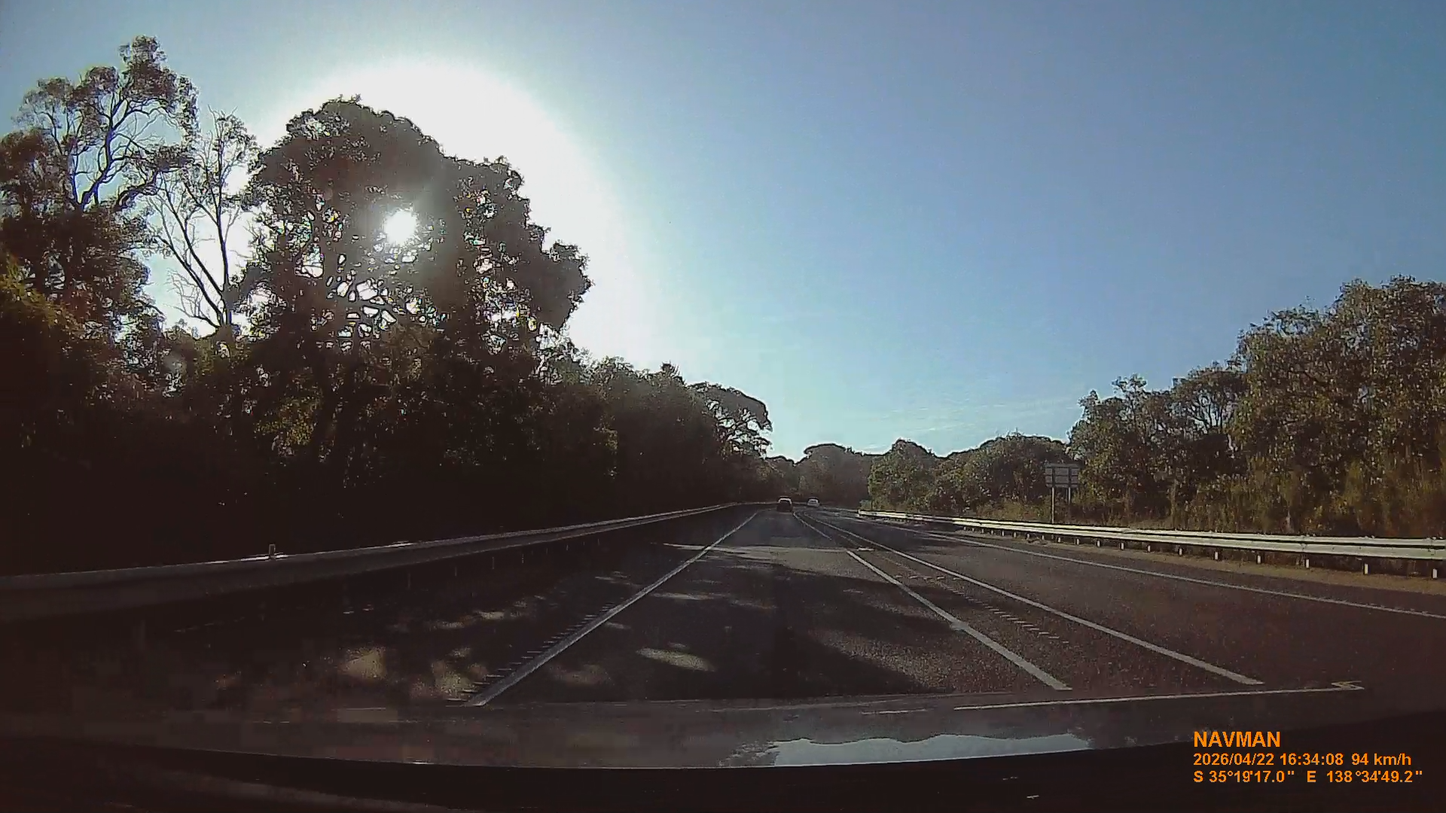road barriers: (0, 504, 746, 625), (871, 512, 1445, 593)
